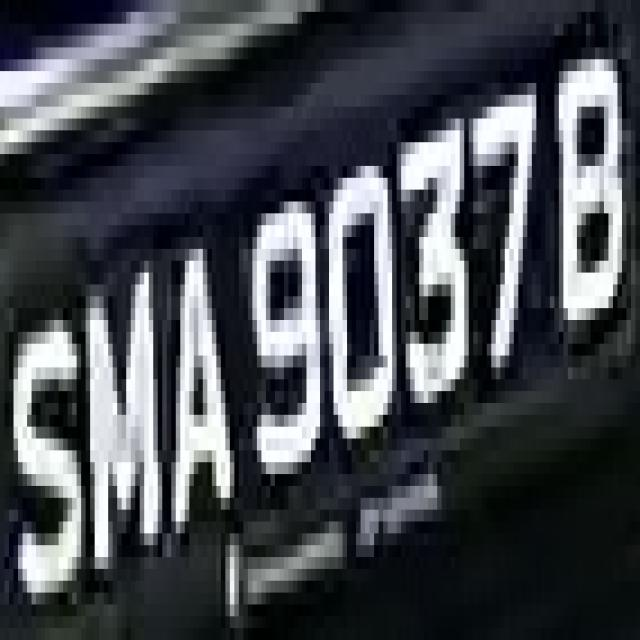0: (306, 154, 406, 462)
3: (379, 106, 473, 426)
7: (451, 59, 550, 415)
9: (243, 154, 320, 522)
A: (144, 213, 234, 557)
B: (554, 35, 631, 368)
M: (77, 225, 162, 545)
S: (0, 272, 99, 640)
